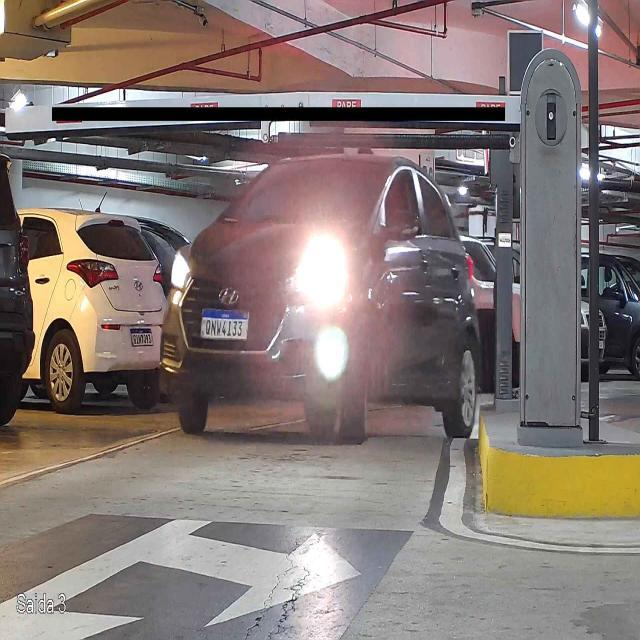mercosul_plate: (200, 306, 250, 342)
